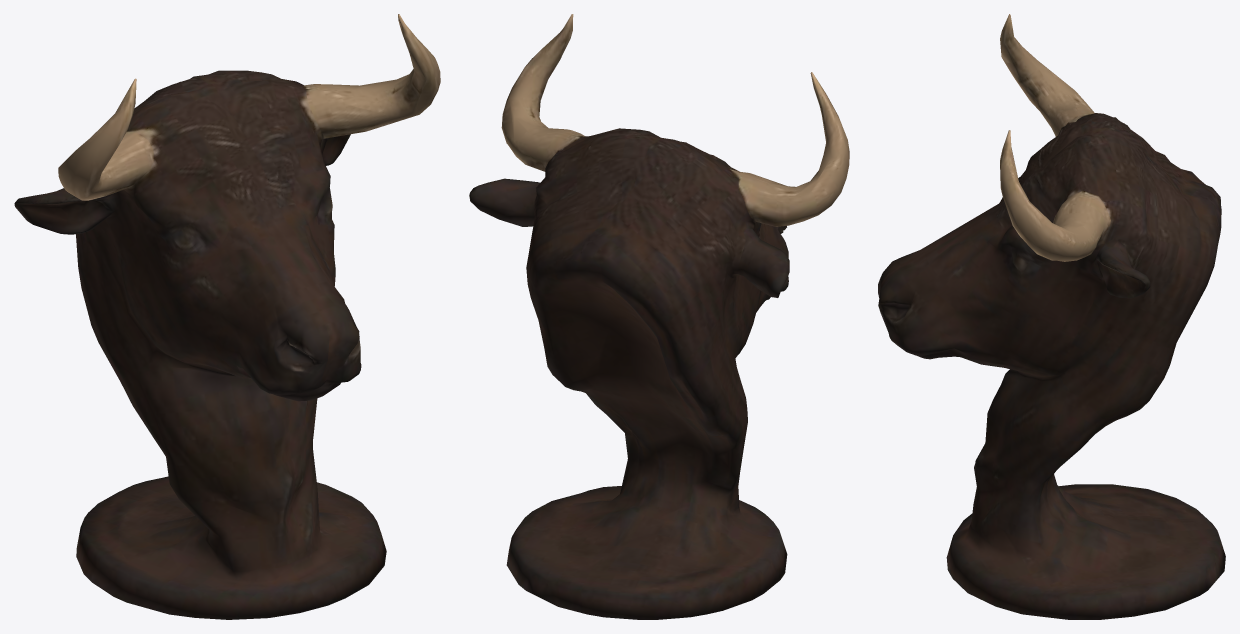
File: bull_head.glb
The picture shows the model from 3 angles, left to right: view 1: azimuth 30°, elevation 25°; view 2: azimuth 150°, elevation 25°; view 3: azimuth 270°, elevation 25°; orthographic projection. The views are drawn at different scales.
Visible parts, largest first — view 1: bull_head; view 2: bull_head; view 3: bull_head.
Part boxes in pixels (left/top/right/bottom): bull_head: left=14, top=14, right=440, bottom=619; bull_head: left=469, top=14, right=849, bottom=619; bull_head: left=878, top=14, right=1225, bottom=619.
Bounding box in the file's own units: 0.3062 × 0.4327 × 0.28.
Materials: 1 (1 with a texture image).
